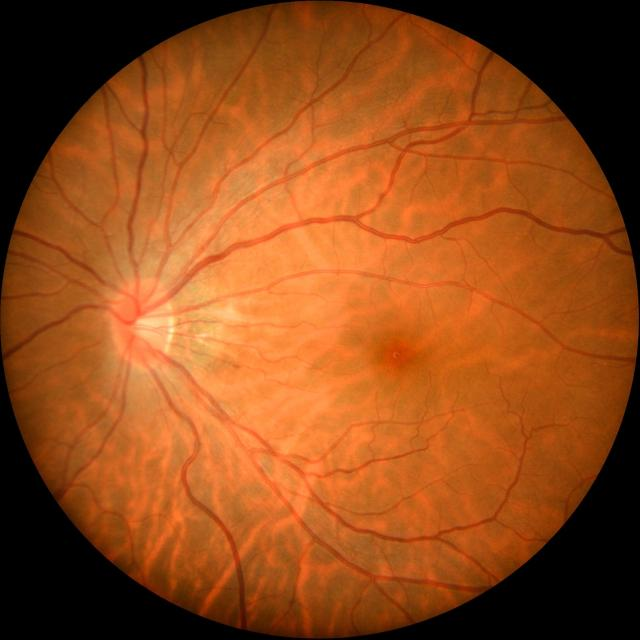OC: (134, 313, 160, 339)
OD: (110, 277, 172, 370)
